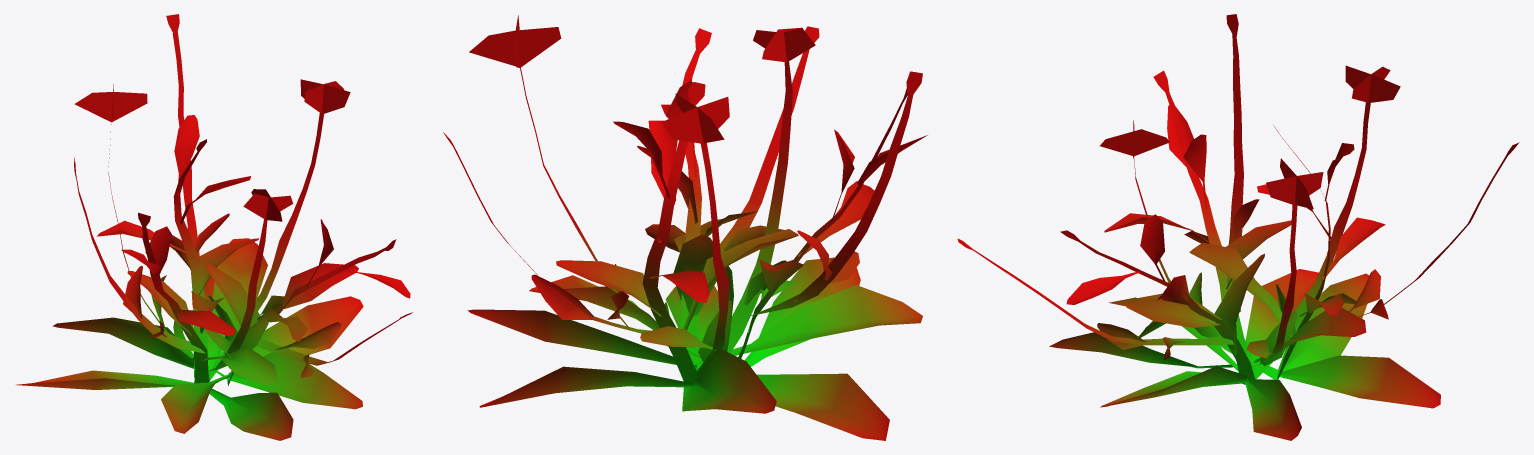
File: plant_02_lod.fbx
3 renders of one model, left to right at view 1: azimuth 30°, elevation 25°; view 2: azimuth 150°, elevation 25°; view 3: azimuth 270°, elevation 25°, orthographic. The views are drawn at different scales.
Visible parts, largest first — view 1: _kmb2_Var4_LOD3; view 2: _kmb2_Var4_LOD3; view 3: _kmb2_Var4_LOD3.
Part boxes in pixels (box(x1,y1,x2,y2)): _kmb2_Var4_LOD3: box(16, 14, 412, 440); _kmb2_Var4_LOD3: box(443, 15, 927, 440); _kmb2_Var4_LOD3: box(957, 14, 1519, 440).
Size of the model in its own units: 55.92 by 43.22 by 75.84.
